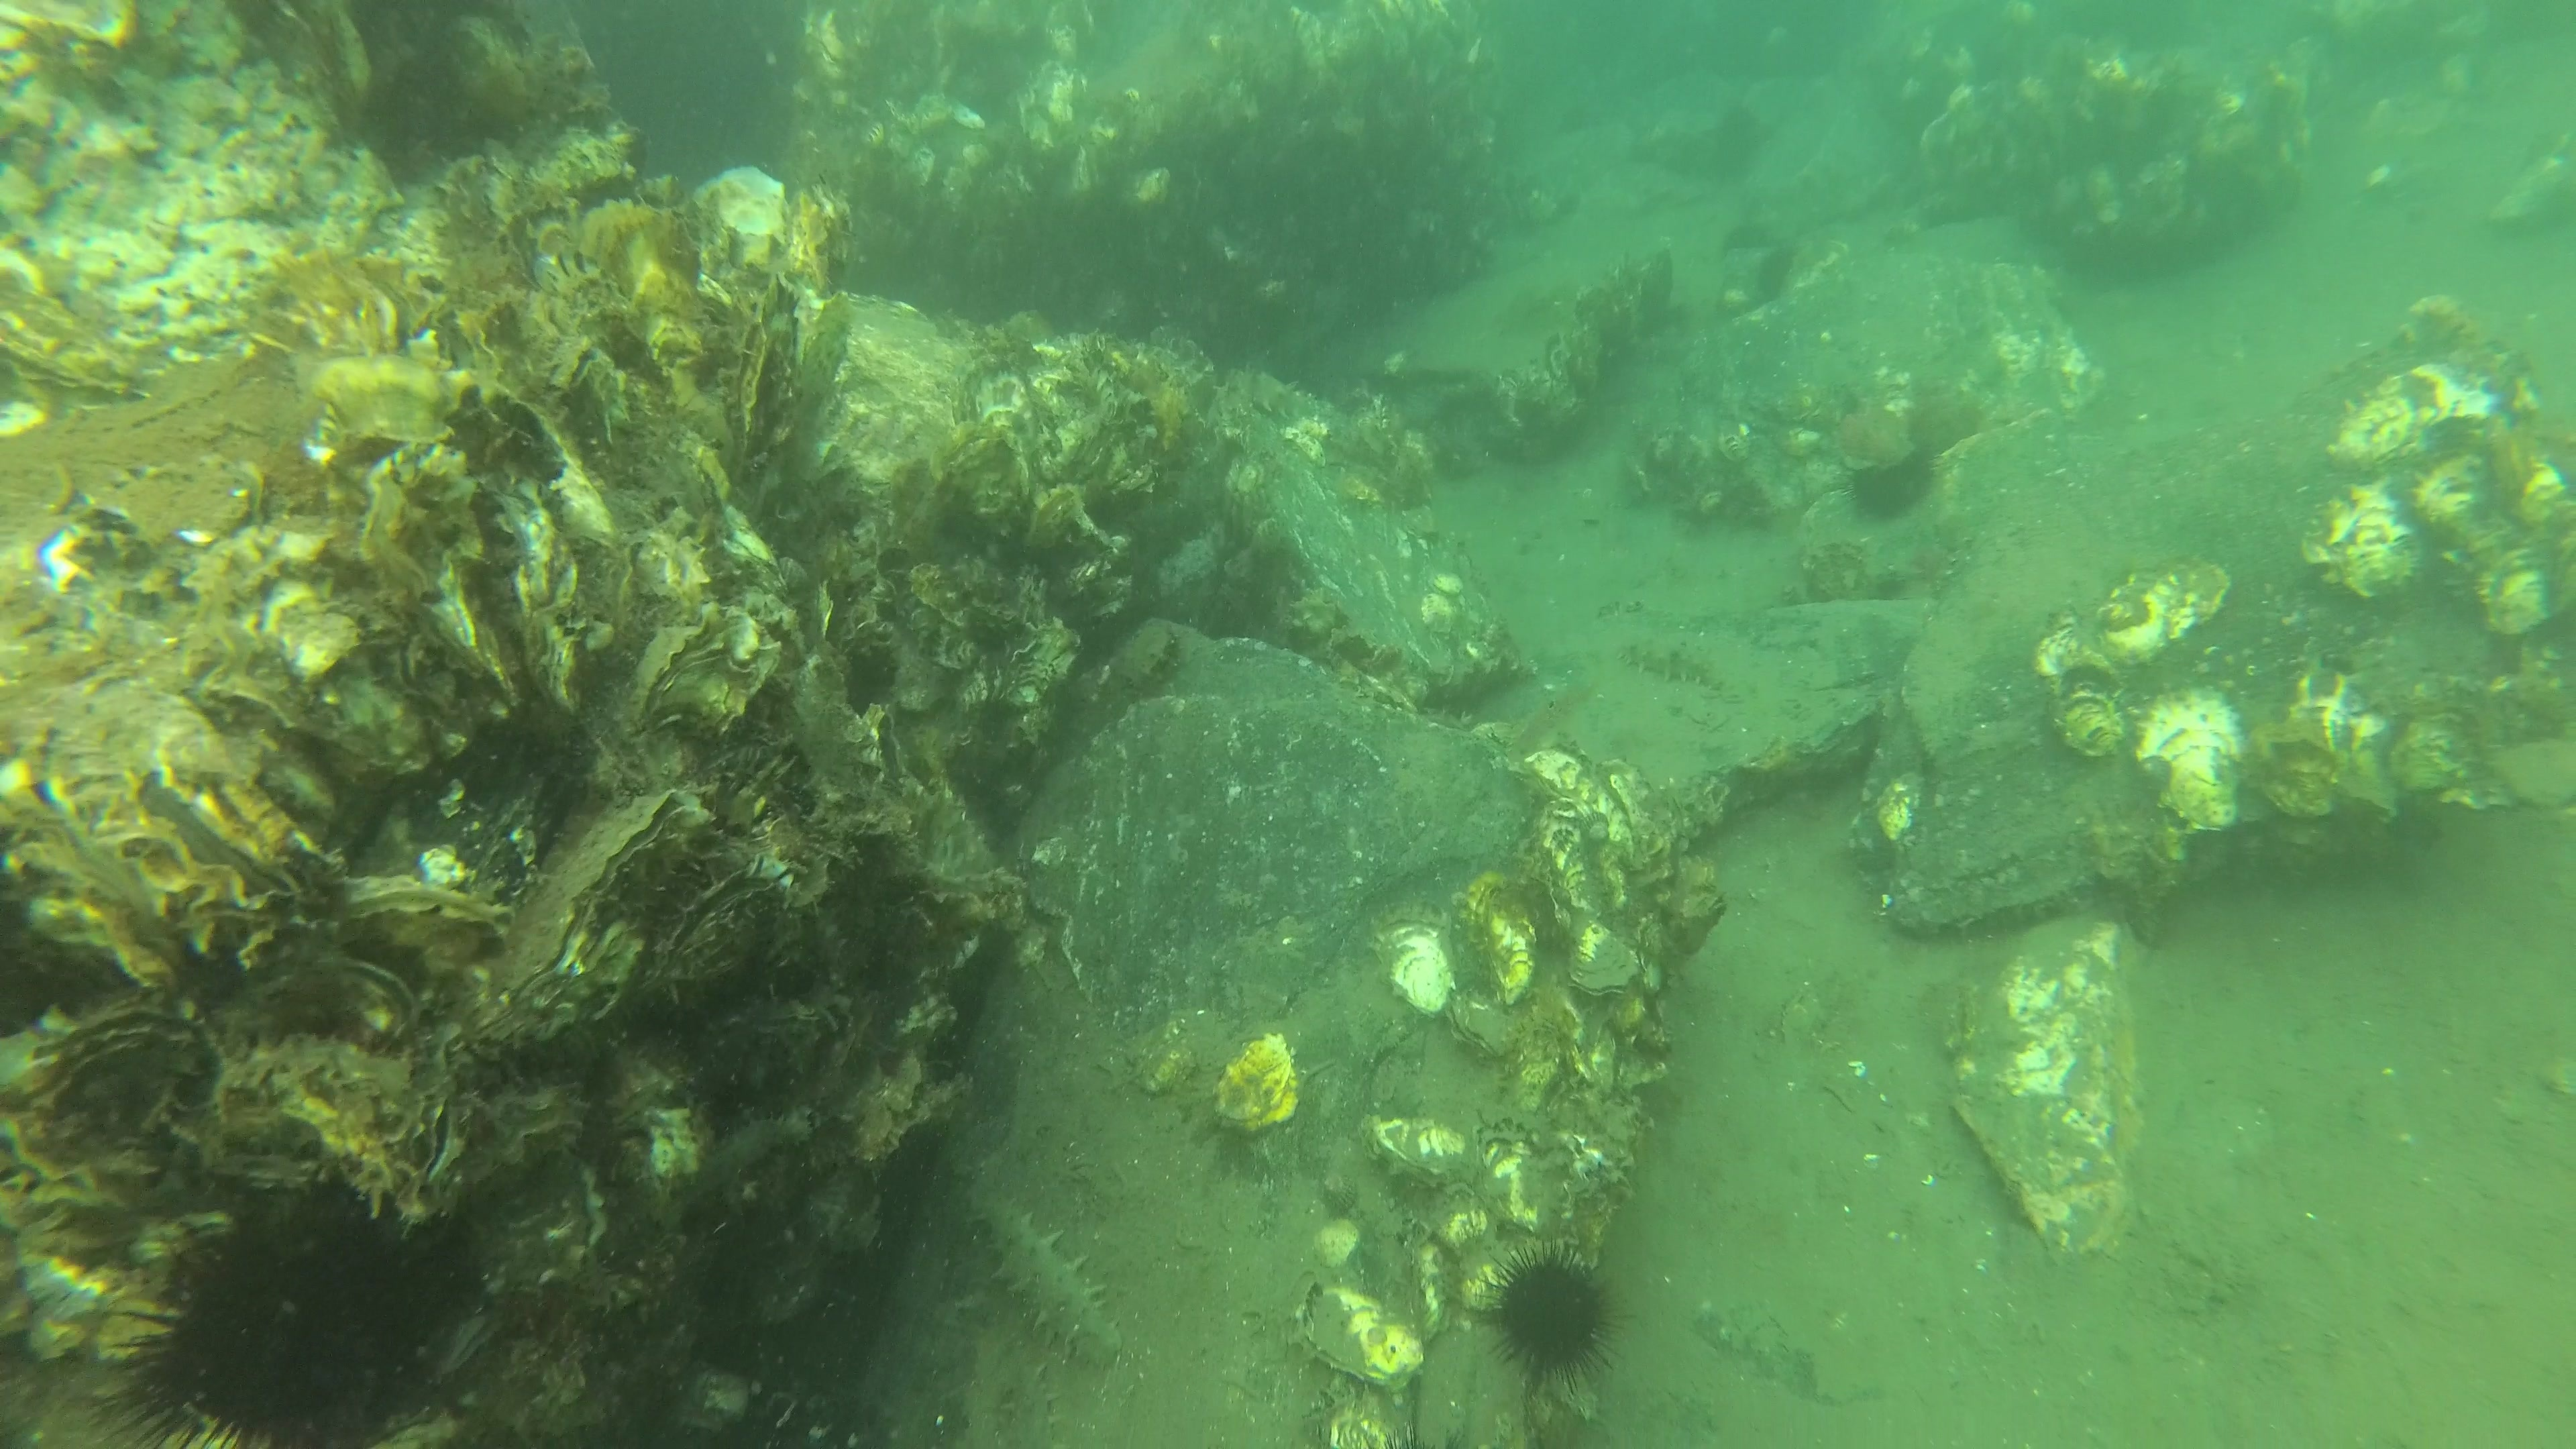echinus: (111, 1194, 485, 1449), (1477, 1235, 1622, 1396), (1838, 453, 1943, 529)
holothurian: (961, 1182, 1132, 1380)
